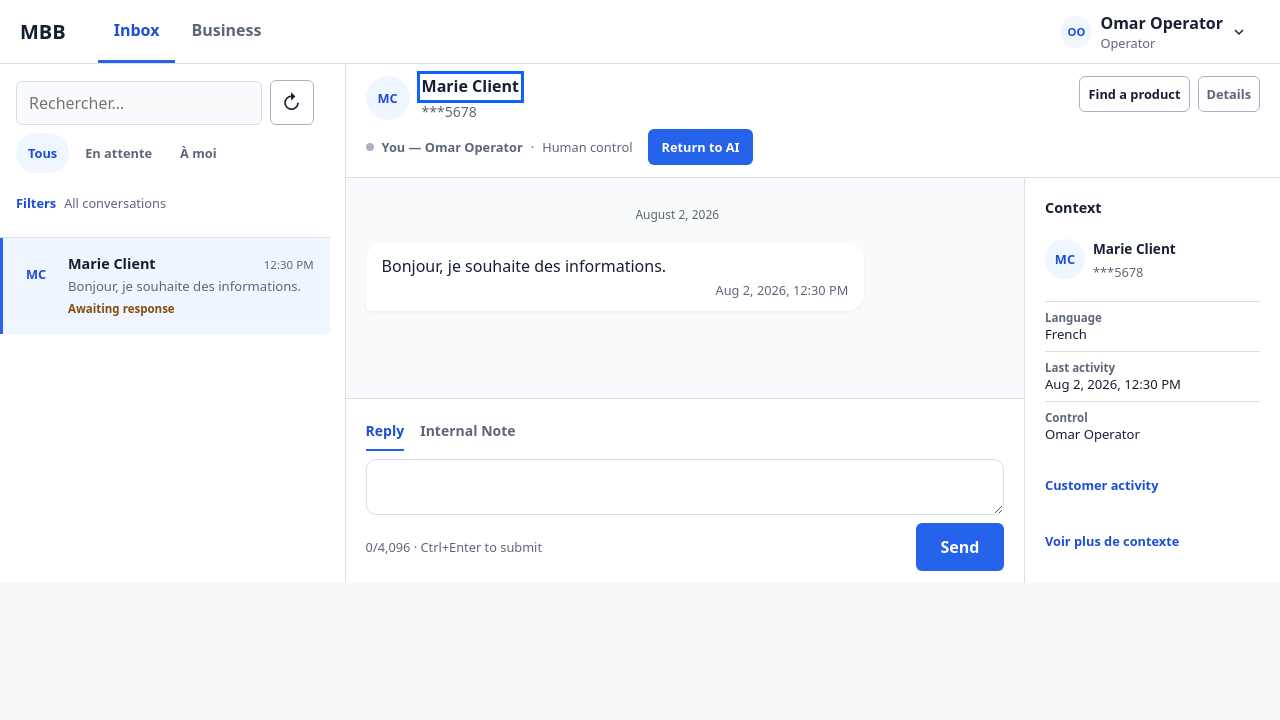
Test case: Human and AI conversation ownership control › keeps human control and announces authoritative AI-disabled errors
What coordinates should you click on to do the following:
click the button "Return to AI"
I would click on:
 (701, 147)
Its box is [648,129,753,165].
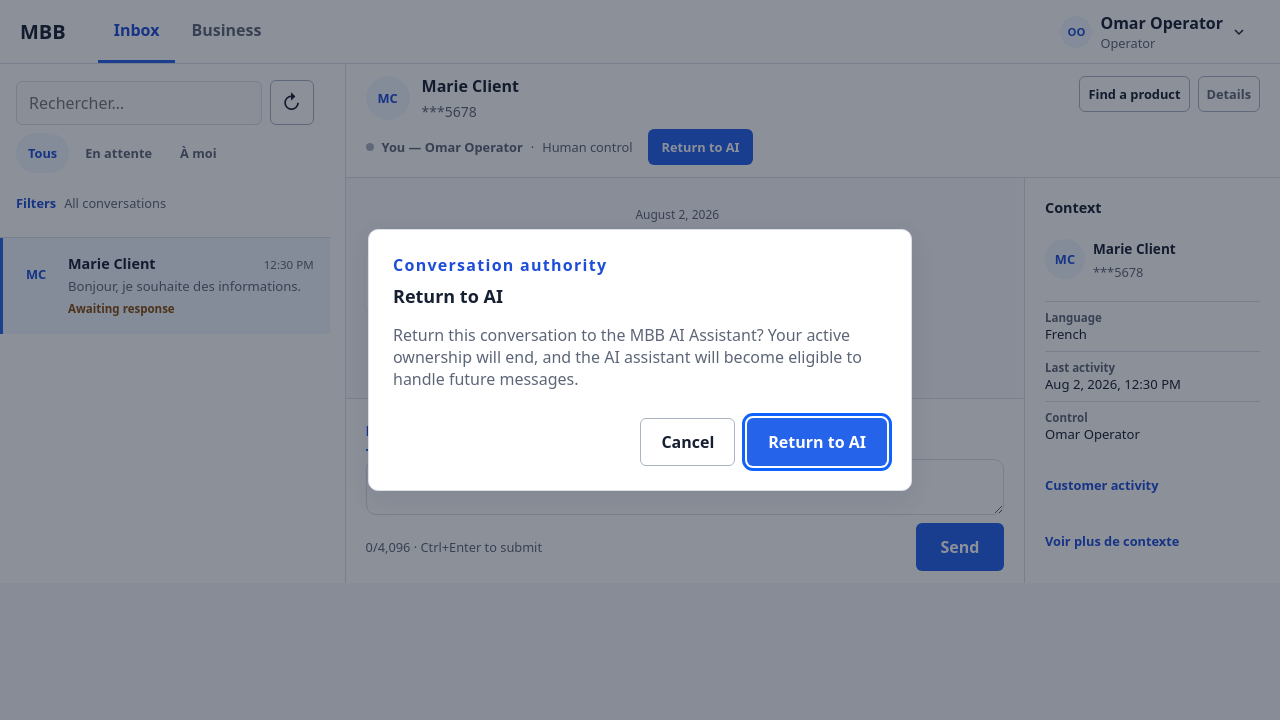
What coordinates should you click on to do the following:
click the button "Return to AI"
I would click on:
 (817, 442)
Its box is [747,418,887,466].
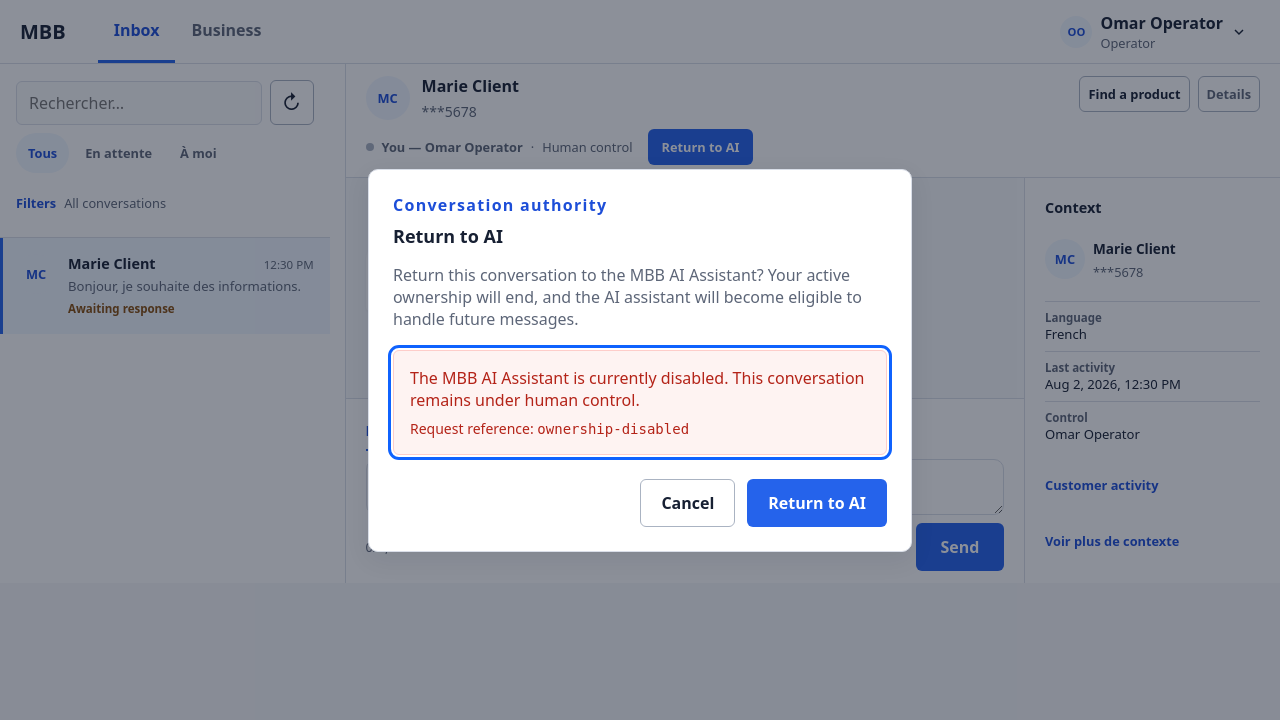
Expected: the text "You — Omar Operator" is shown, [382,138,523,156]
Expected: the text "currently disabled" is shown, [410,366,864,410]
Expected: the text "ownership-disabled" is shown, [537,420,689,436]
